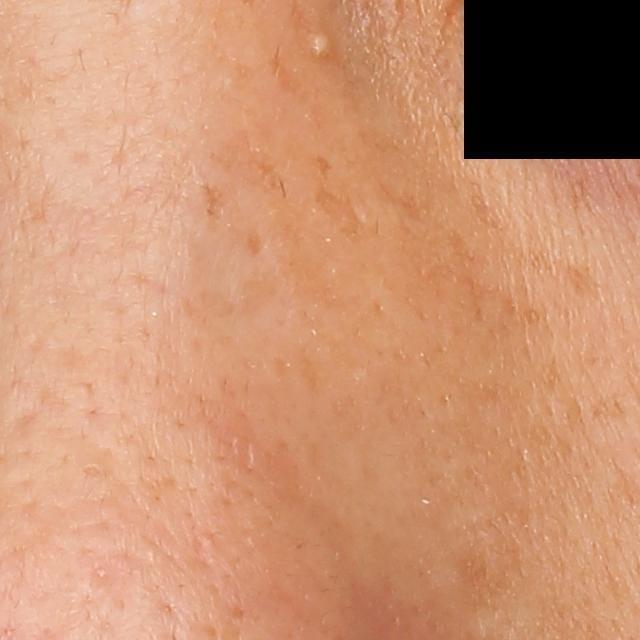melasma: (464, 177, 619, 315), (440, 219, 553, 340), (212, 130, 305, 209), (309, 153, 381, 245), (369, 174, 438, 232), (452, 549, 501, 616), (586, 389, 635, 432), (196, 180, 232, 233)
other: (304, 26, 343, 67)
